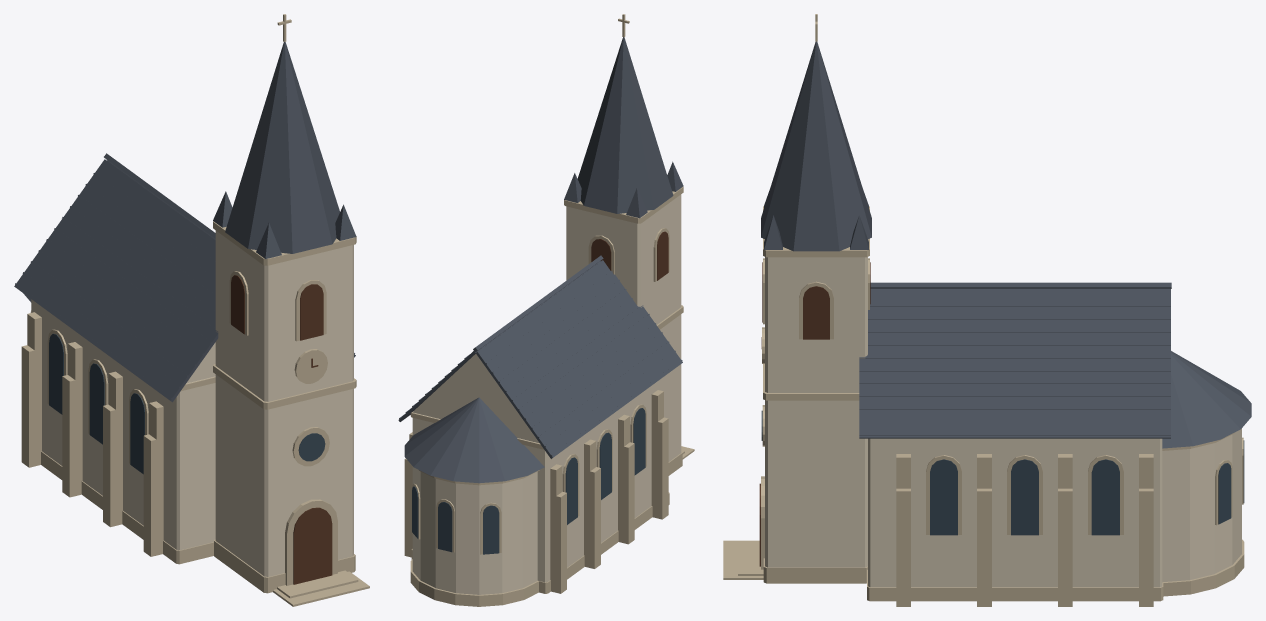
The model's file is eglise.glb.
The picture shows the model from 3 angles, left to right: view 1: azimuth 30°, elevation 25°; view 2: azimuth 150°, elevation 25°; view 3: azimuth 270°, elevation 25°; orthographic projection. The views are drawn at different scales.
Visible parts, largest first — view 1: eglise; view 2: eglise; view 3: eglise.
Part boxes in pixels (left/top/right/bottom): eglise: left=14, top=14, right=369, bottom=606; eglise: left=398, top=14, right=694, bottom=606; eglise: left=723, top=14, right=1251, bottom=606.
Bounding box in the file's own units: 8.8 × 24.6 × 21.54.
